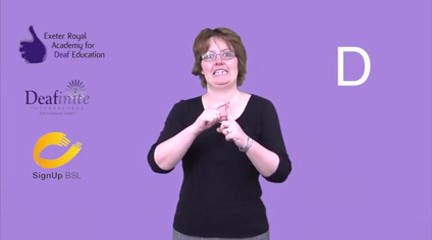D: (193, 95, 254, 152)
